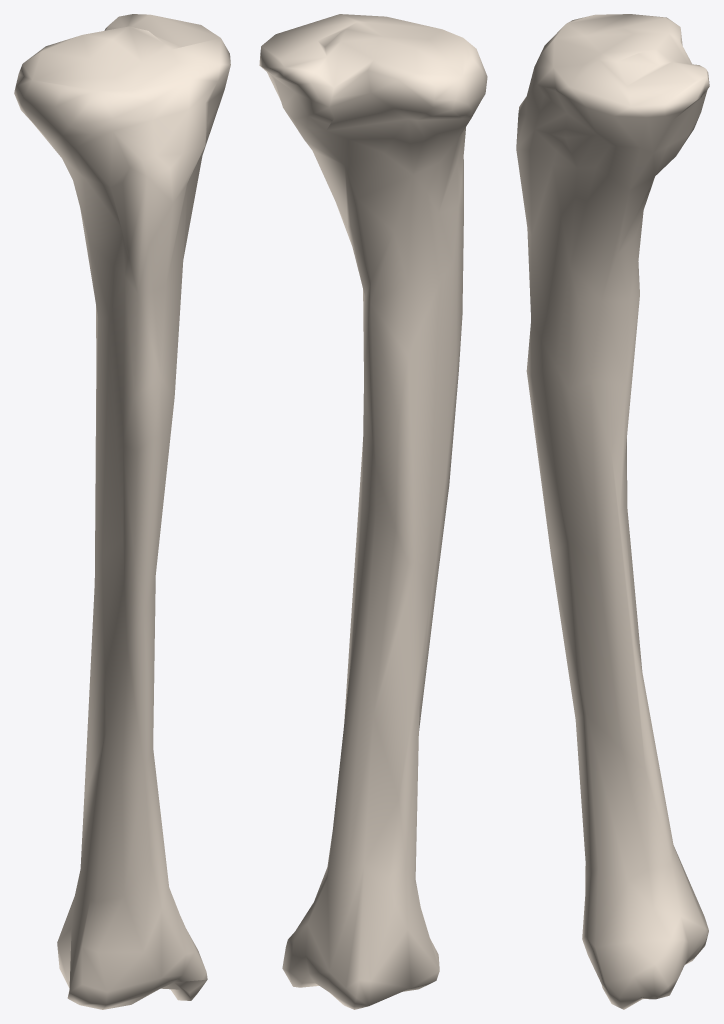
The model's file is right_tibia.glb.
3 views of the same model, side by side, from view 1: azimuth 30°, elevation 25°; view 2: azimuth 150°, elevation 25°; view 3: azimuth 270°, elevation 25° (orthographic). The views are drawn at different scales.
Parts seen in each view (by area): view 1: Tibia.r; view 2: Tibia.r; view 3: Tibia.r.
Boxes of the visible parts, bbox=[...] form: Tibia.r: bbox=[14, 14, 230, 1009]; Tibia.r: bbox=[259, 14, 487, 1009]; Tibia.r: bbox=[516, 14, 709, 1009].
Size of the model in its own units: 0.0567 by 0.2661 by 0.0495.
